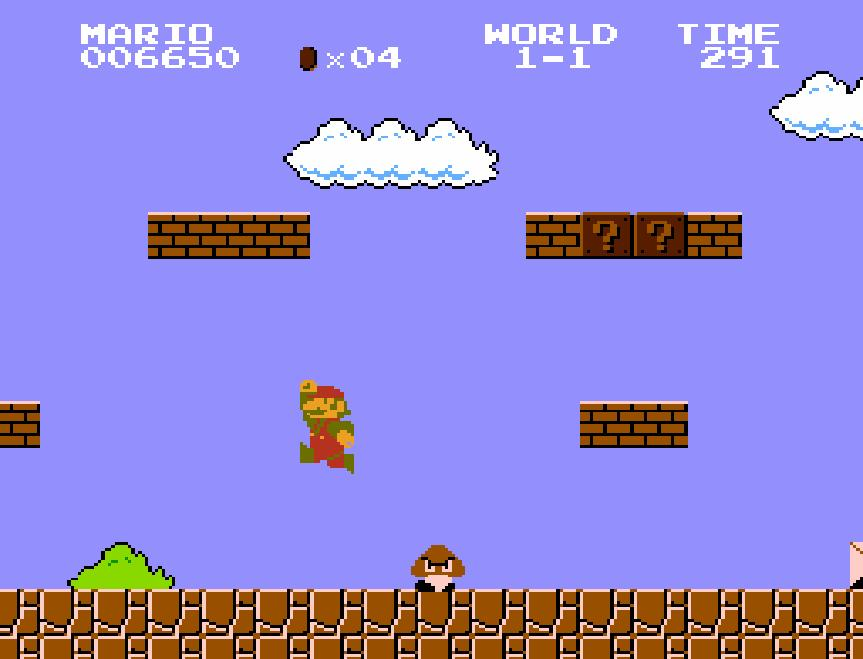big_mario: (298, 378, 356, 476)
